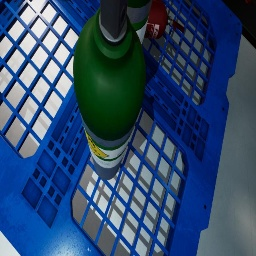0: (73, 0, 146, 180), (127, 0, 152, 46)
FireExtinguisher ]: (100, 0, 185, 39)
NitrogenTank ,: (65, 0, 66, 0)
